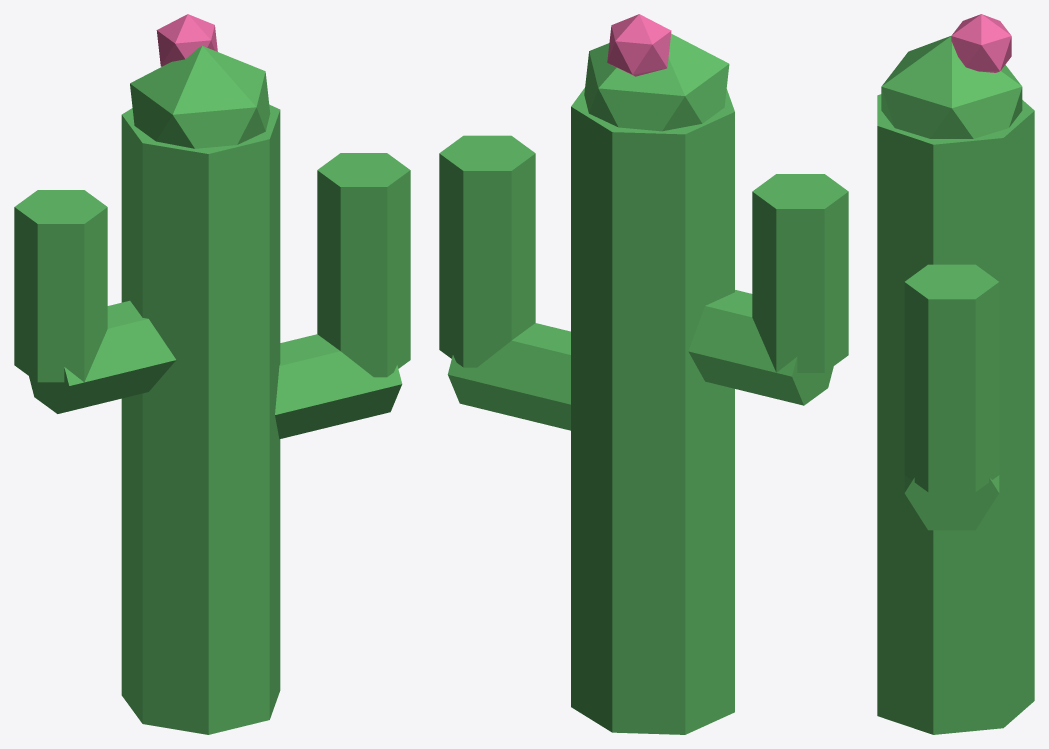
Rendered from cactus.glb.
3 views of the same model, side by side, from view 1: azimuth 30°, elevation 25°; view 2: azimuth 150°, elevation 25°; view 3: azimuth 270°, elevation 25° (orthographic). The views are drawn at different scales.
Visible parts, largest first — view 1: cactus; view 2: cactus; view 3: cactus.
Part boxes in pixels (x1=…): cactus: x1=14, y1=14, x2=410, y2=734; cactus: x1=439, y1=14, x2=848, y2=734; cactus: x1=877, y1=14, x2=1034, y2=734.
Bounding box in the file's own units: 0.7386 × 1.28 × 0.2661.
Materials: 1 (1 with a texture image).
